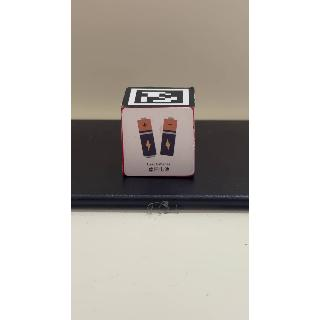Used_Battery: (123, 107, 195, 177)
